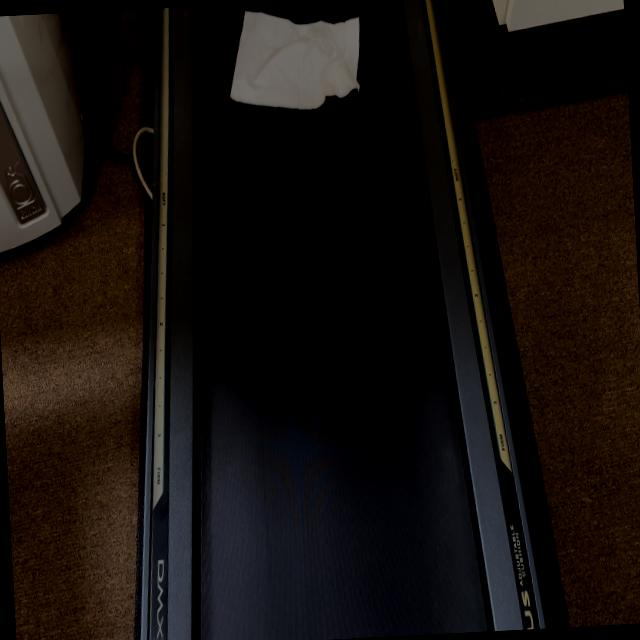Recycle: (223, 1, 398, 128)
